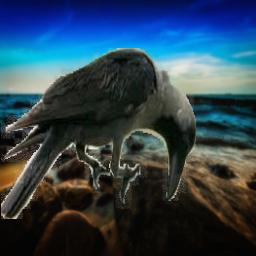Crow: (1, 48, 196, 219)
